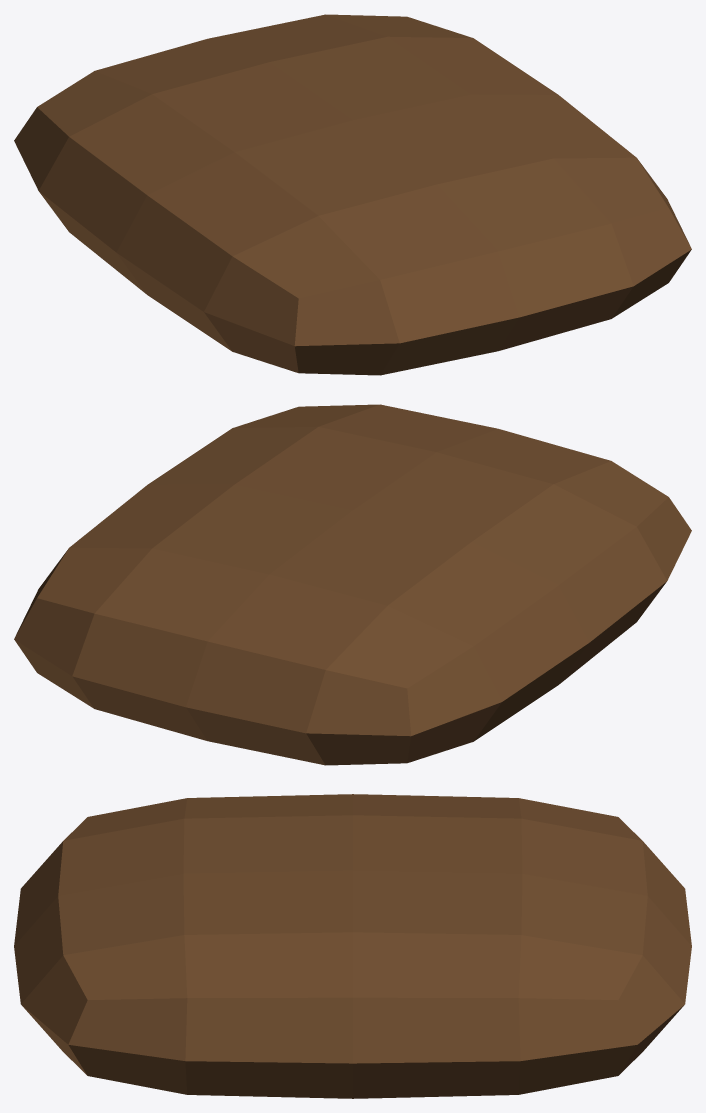
Rendered from sac.fbx.
3 views of the same model, one above another, from view 1: azimuth 30°, elevation 25°; view 2: azimuth 150°, elevation 25°; view 3: azimuth 270°, elevation 25° (orthographic).
Visible parts, largest first — view 1: Plane; view 2: Plane; view 3: Plane.
Part boxes in pixels (left/top/right/bottom): Plane: left=14, top=14, right=691, bottom=375; Plane: left=14, top=404, right=691, bottom=765; Plane: left=14, top=794, right=691, bottom=1098.
Size of the model in its own units: 157 by 47.32 by 192.
